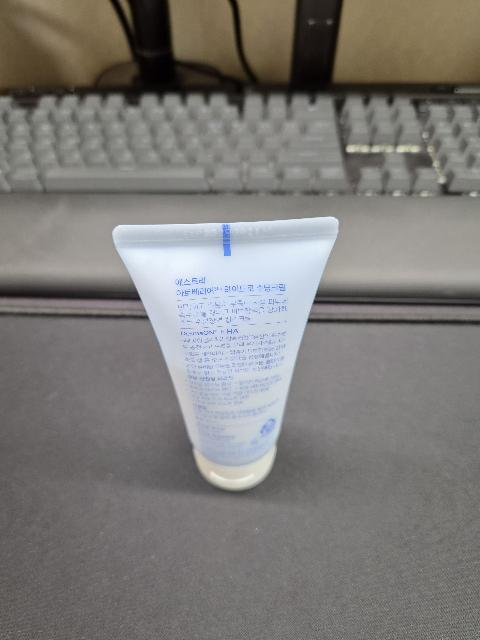handcream: (112, 217, 339, 490)
